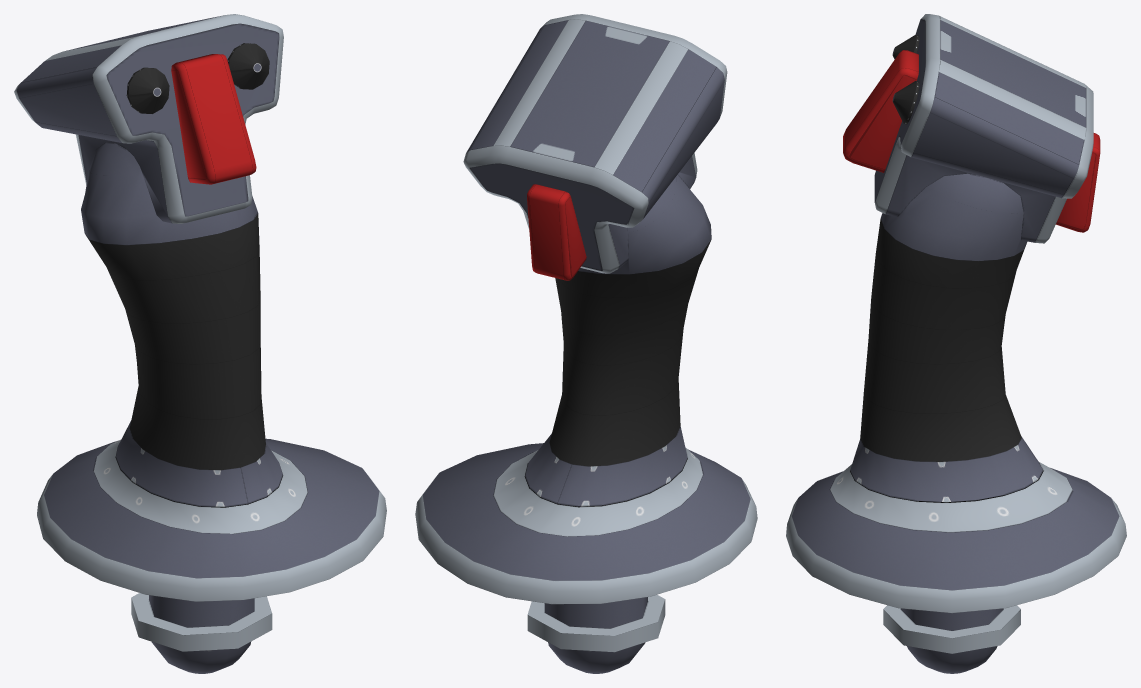
The model's file is Joystick_01.FBX.
The picture shows the model from 3 angles, left to right: view 1: azimuth 30°, elevation 25°; view 2: azimuth 150°, elevation 25°; view 3: azimuth 270°, elevation 25°; orthographic projection. The views are drawn at different scales.
Visible parts, largest first — view 1: Joystick_01, Button_01, Button_03, Button_04; view 2: Joystick_01, Button_02; view 3: Joystick_01, Button_01, Button_02, Button_04.
Boxes of the visible parts, <box> form: Joystick_01: <box>14,14,386,673</box>; Button_01: <box>171,54,256,184</box>; Button_03: <box>126,67,169,113</box>; Button_04: <box>227,43,269,89</box>; Joystick_01: <box>415,14,757,673</box>; Button_02: <box>527,184,586,280</box>; Joystick_01: <box>786,14,1126,673</box>; Button_01: <box>843,50,918,172</box>; Button_02: <box>1056,133,1100,232</box>; Button_04: <box>892,81,919,124</box>.
Size of the model in its own units: 1.09 by 2.24 by 1.12.
